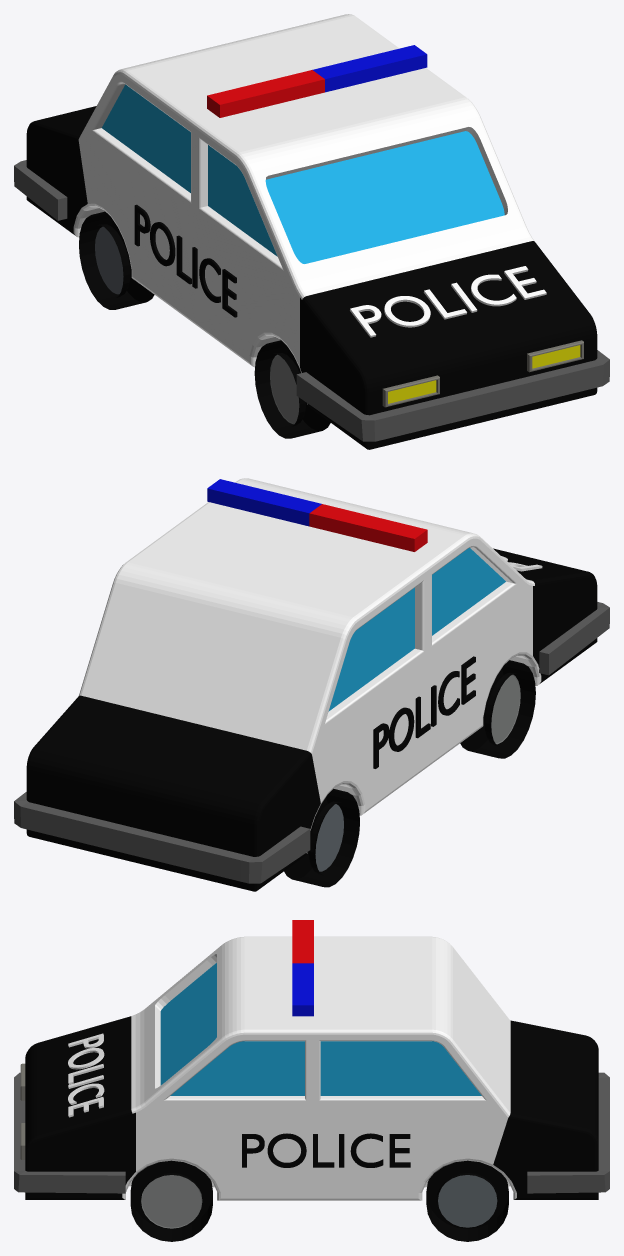
File: PoliceCar.fbx
3 views of the same model, one above another, from view 1: azimuth 30°, elevation 25°; view 2: azimuth 150°, elevation 25°; view 3: azimuth 270°, elevation 25° (orthographic). The views are drawn at different scales.
Parts seen in each view (by area): view 1: Circle, Circle.003, Cube.001, Circle.002, Circle.001, Text.002, Text.001, Cube; view 2: Circle, Circle.003, Cube.001, Circle.001, Circle.002, Text.001; view 3: Circle, Circle.003, Circle.001, Circle.002, Text, Cube.001, Text.002, Cube.
Boxes of the visible parts, x1,y1,x2,y2 form: Circle: (26, 14, 597, 449); Circle.003: (14, 160, 609, 441); Cube.001: (207, 45, 427, 117); Circle.002: (79, 211, 154, 309); Circle.001: (254, 340, 330, 438); Text.002: (350, 266, 546, 337); Text.001: (134, 204, 237, 317); Cube: (382, 340, 583, 407); Circle: (26, 478, 597, 891); Circle.003: (14, 602, 609, 883); Cube.001: (207, 479, 427, 551); Circle.001: (460, 660, 535, 758); Circle.002: (284, 788, 359, 887); Text.001: (373, 656, 475, 768); Circle: (25, 936, 598, 1200); Circle.003: (14, 1072, 609, 1193); Circle.001: (130, 1160, 212, 1241); Circle.002: (426, 1160, 508, 1241); Text: (242, 1133, 410, 1167); Cube.001: (292, 920, 313, 1016); Text.002: (68, 1033, 104, 1117); Cube: (20, 1063, 25, 1159).
Bounding box in the file's own units: 560 × 583 × 1360.
